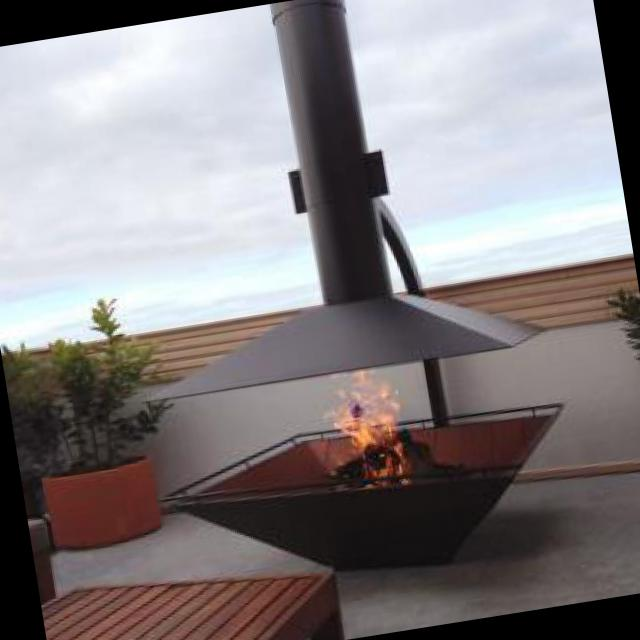fire: (322, 356, 438, 487)
